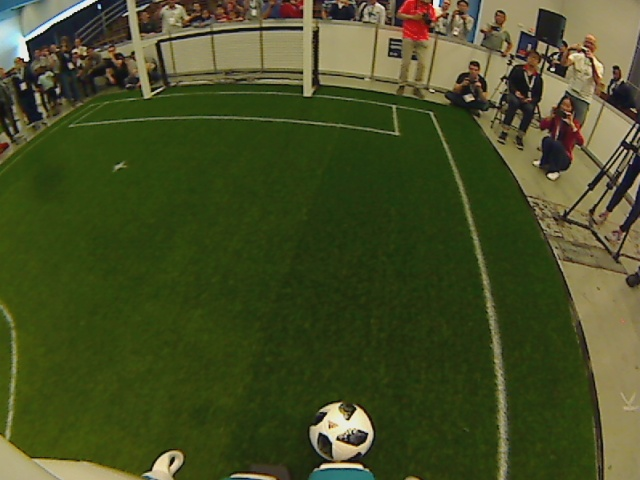ball: (306, 399, 375, 465)
